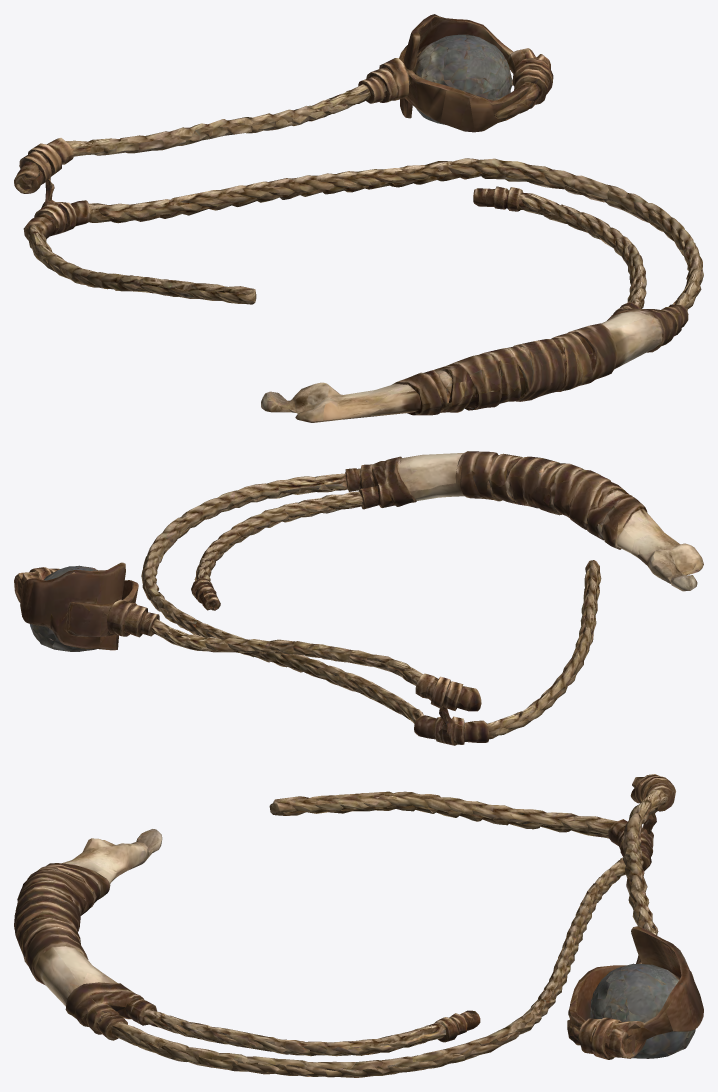
File: w-sling.glb
3 renders of one model, top to bottom at view 1: azimuth 30°, elevation 25°; view 2: azimuth 150°, elevation 25°; view 3: azimuth 270°, elevation 25°, orthographic. The views are drawn at different scales.
Parts seen in each view (by area): view 1: Mesh_0; view 2: Mesh_0; view 3: Mesh_0.
Boxes of the visible parts, <box> form: Mesh_0: <box>14,14,703,422</box>; Mesh_0: <box>14,451,703,745</box>; Mesh_0: <box>14,774,703,1077</box>.
Size of the model in its own units: 1.76 by 0.3397 by 1.9.
Materials: 1 (1 with a texture image).
